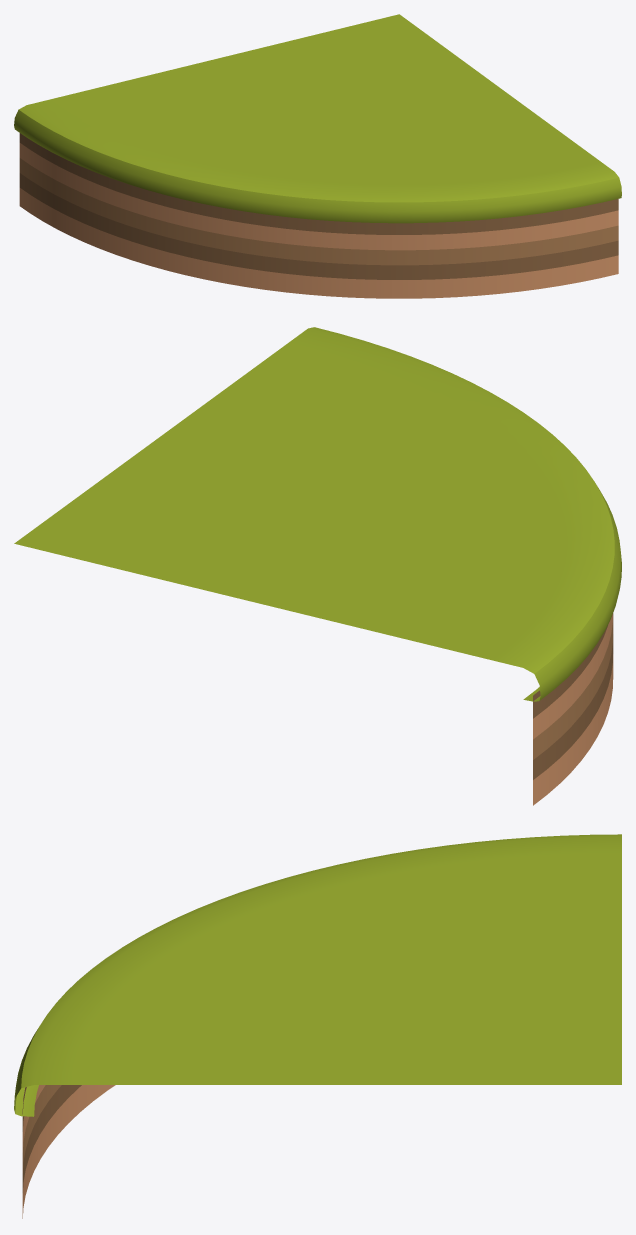
File: platform_grass_corner_round4_tall.gltf
3 renders of one model, top to bottom at view 1: azimuth 30°, elevation 25°; view 2: azimuth 150°, elevation 25°; view 3: azimuth 270°, elevation 25°, orthographic. The views are drawn at different scales.
Parts seen in each view (by area): view 1: Cube_Grass_Corner_Round4_Tall; view 2: Cube_Grass_Corner_Round4_Tall; view 3: Cube_Grass_Corner_Round4_Tall.
Boxes of the visible parts, x1=… form: Cube_Grass_Corner_Round4_Tall: x1=14, y1=14, x2=621, y2=298; Cube_Grass_Corner_Round4_Tall: x1=14, y1=327, x2=621, y2=805; Cube_Grass_Corner_Round4_Tall: x1=14, y1=834, x2=621, y2=1218.
Size of the model in its own units: 8.12 by 2 by 8.12.
